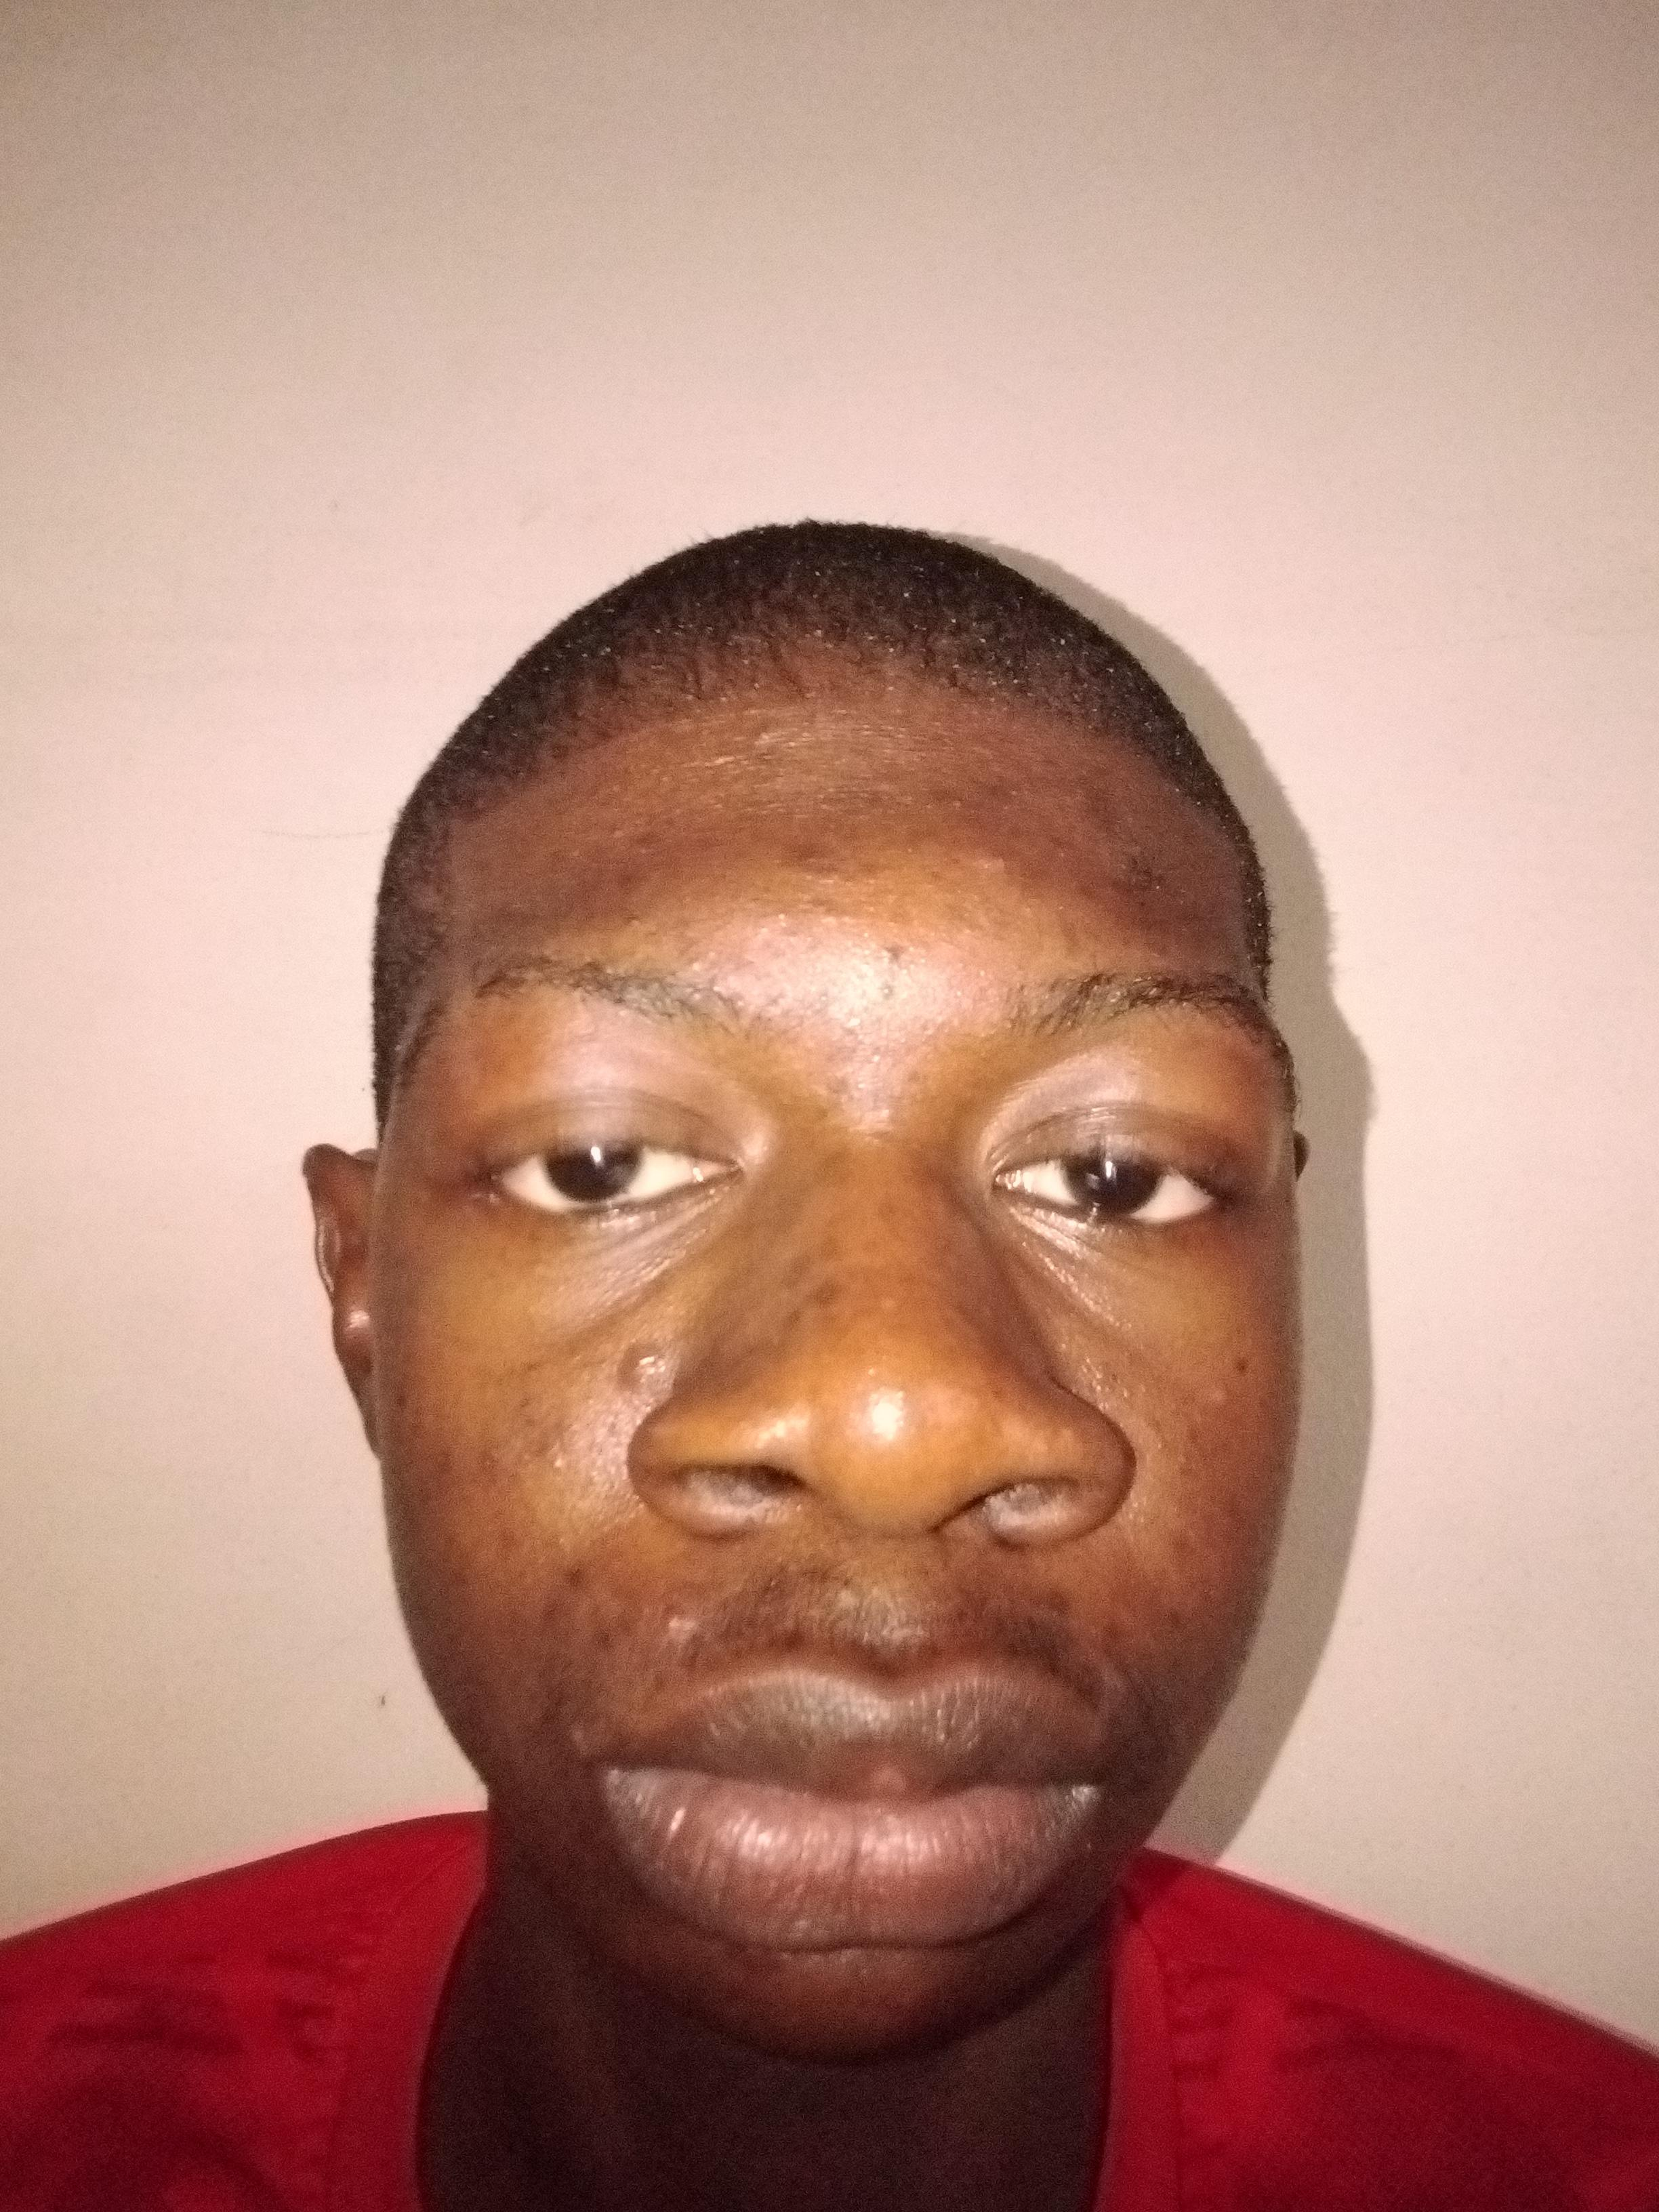Acne: (1058, 749, 1166, 899), (1164, 1395, 1246, 1564), (410, 1414, 572, 1494), (528, 1554, 624, 1656), (777, 1235, 856, 1313), (688, 718, 796, 768), (774, 827, 845, 894), (610, 1327, 681, 1392), (861, 934, 911, 1017), (504, 1353, 554, 1416), (1019, 1573, 1091, 1615), (816, 1062, 861, 1127), (953, 840, 1021, 881), (652, 1594, 701, 1642), (606, 813, 666, 853), (927, 775, 971, 822), (890, 1055, 936, 1099), (1093, 1609, 1134, 1656), (680, 942, 725, 977), (1161, 1590, 1194, 1623), (619, 907, 657, 928), (389, 1386, 416, 1414)
